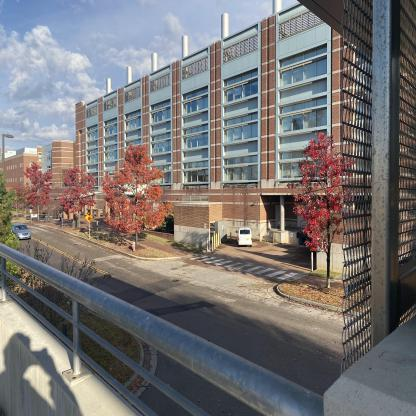EB-1: (74, 10, 414, 262)
